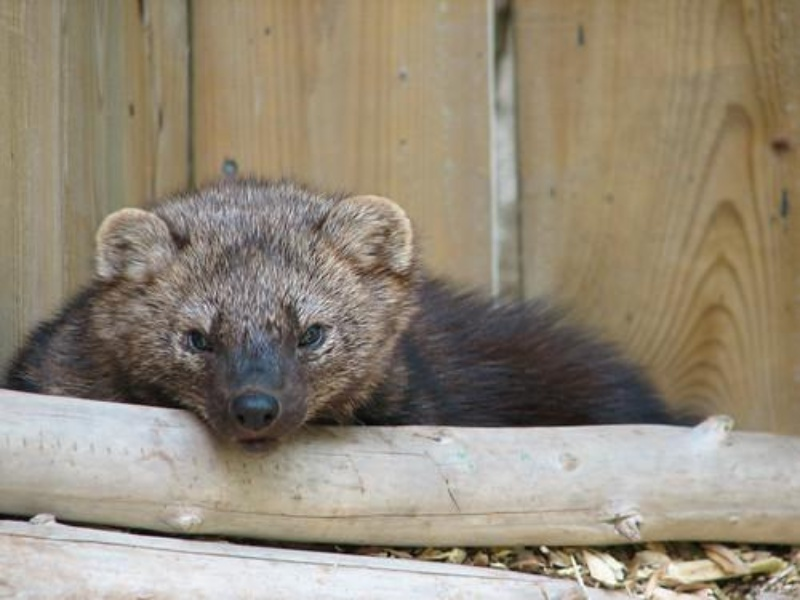minkish: (10, 177, 708, 454)
